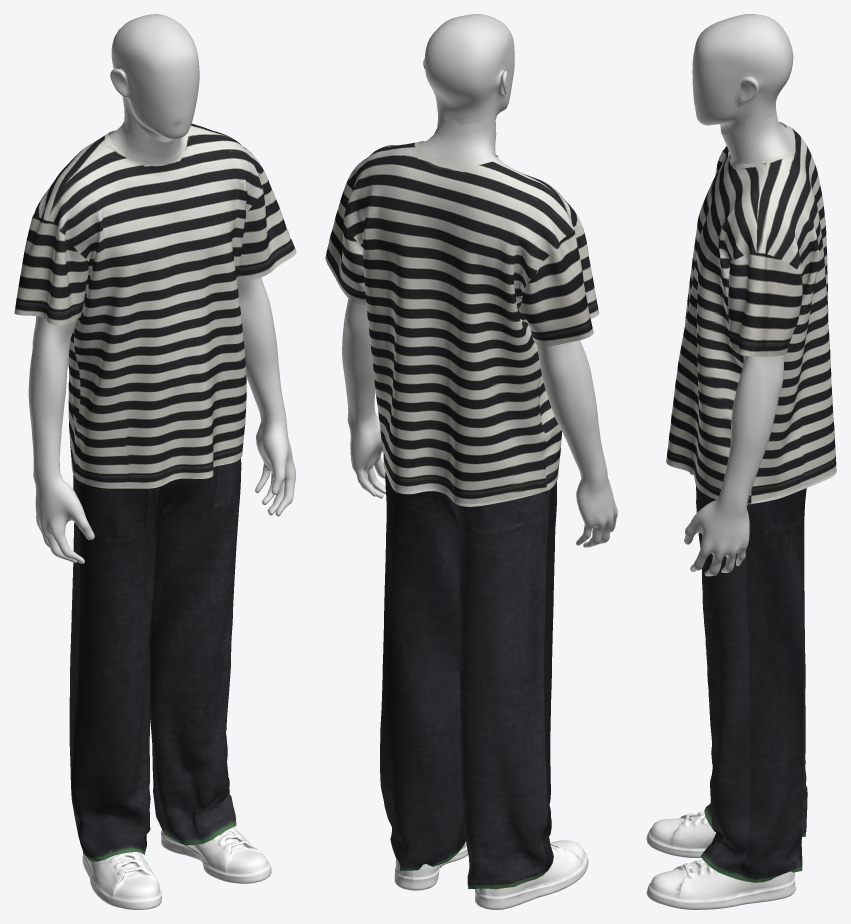
Rendered from true.gltf.
3 views of the same model, side by side, from view 1: azimuth 30°, elevation 25°; view 2: azimuth 150°, elevation 25°; view 3: azimuth 270°, elevation 25° (orthographic). The views are drawn at different scales.
Visible parts, largest first — view 1: Object_11, Object_5, Object_9, Object_7; view 2: Object_11, Object_5, Object_9, Object_7; view 3: Object_11, Object_5, Object_7, Object_9.
Boxes of the visible parts, x1=… form: Object_11: x1=14, y1=123, x2=296, y2=861; Object_5: x1=28, y1=14, x2=295, y2=563; Object_9: x1=82, y1=852, x2=161, y2=909; Object_7: x1=161, y1=827, x2=271, y2=883; Object_11: x1=325, y1=141, x2=599, y2=889; Object_5: x1=342, y1=14, x2=617, y2=547; Object_9: x1=475, y1=840, x2=588, y2=909; Object_7: x1=394, y1=841, x2=468, y2=890; Object_11: x1=666, y1=122, x2=836, y2=882; Object_5: x1=684, y1=14, x2=793, y2=576; Object_7: x1=646, y1=859, x2=795, y2=909; Object_9: x1=646, y1=811, x2=715, y2=857.
Bounding box in the file's own units: 0.6357 × 1.9 × 0.3829.
Materials: 3 (1 with a texture image).
